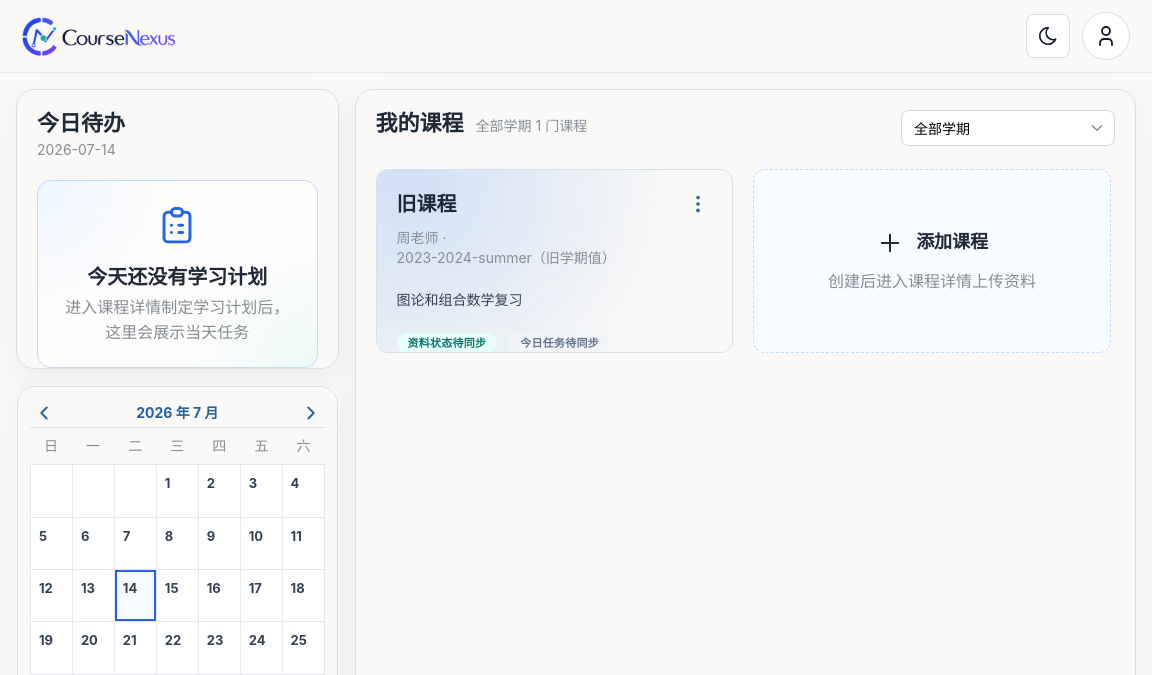
Test: HomePage › preserves an unchanged legacy term when editing another course field
Expected: the link "旧课程" is shown, [396, 192, 456, 216]
Click the button named "旧课程 更多操作": [698, 204] box [684, 190, 712, 218]
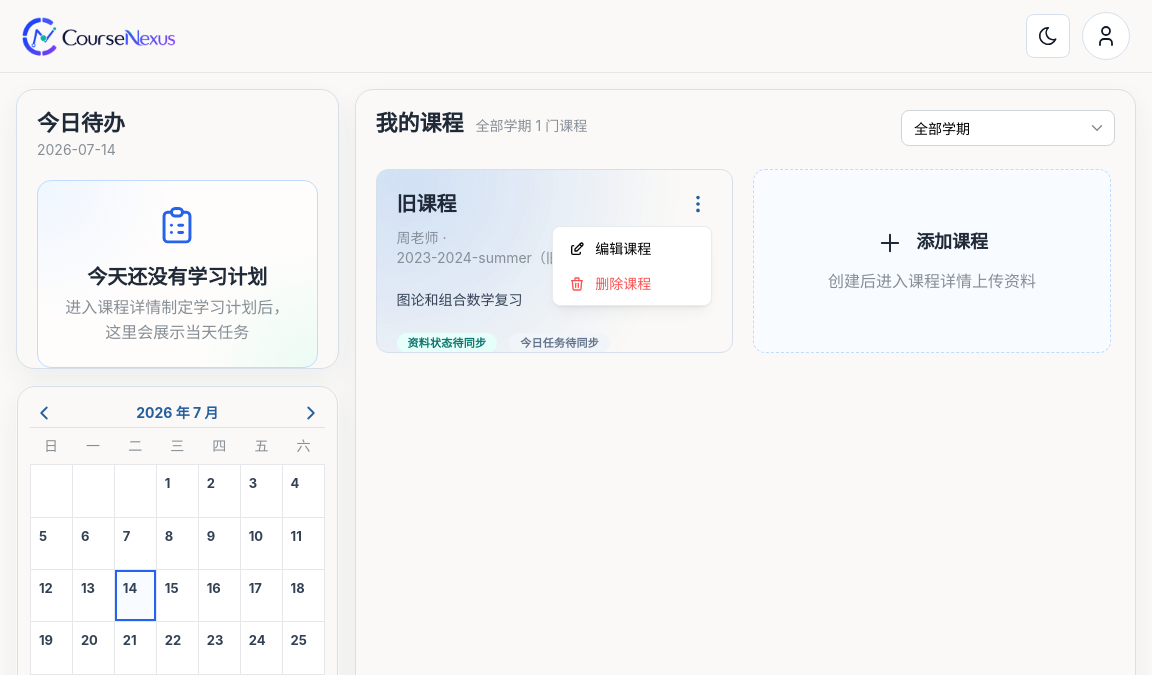
Click the menu item "编辑课程": [632, 248] box [557, 231, 707, 266]
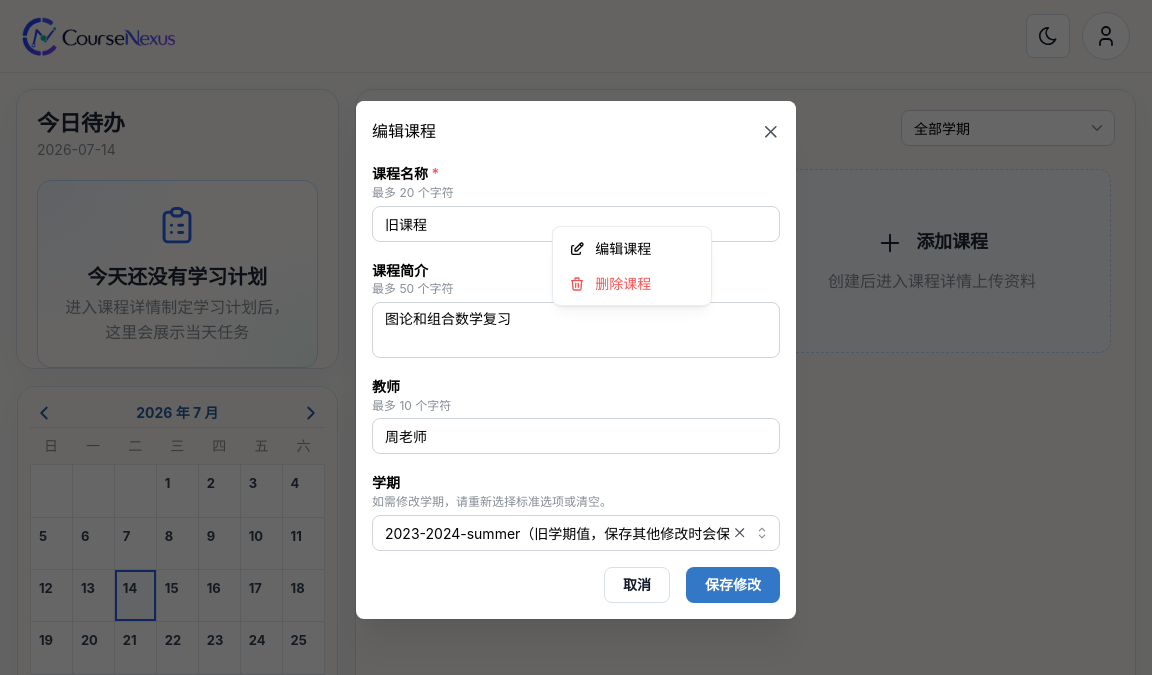
Replace the text in the field labelled "课程名称" with "旧课程（已编辑）": [576, 224] box [372, 206, 780, 242]
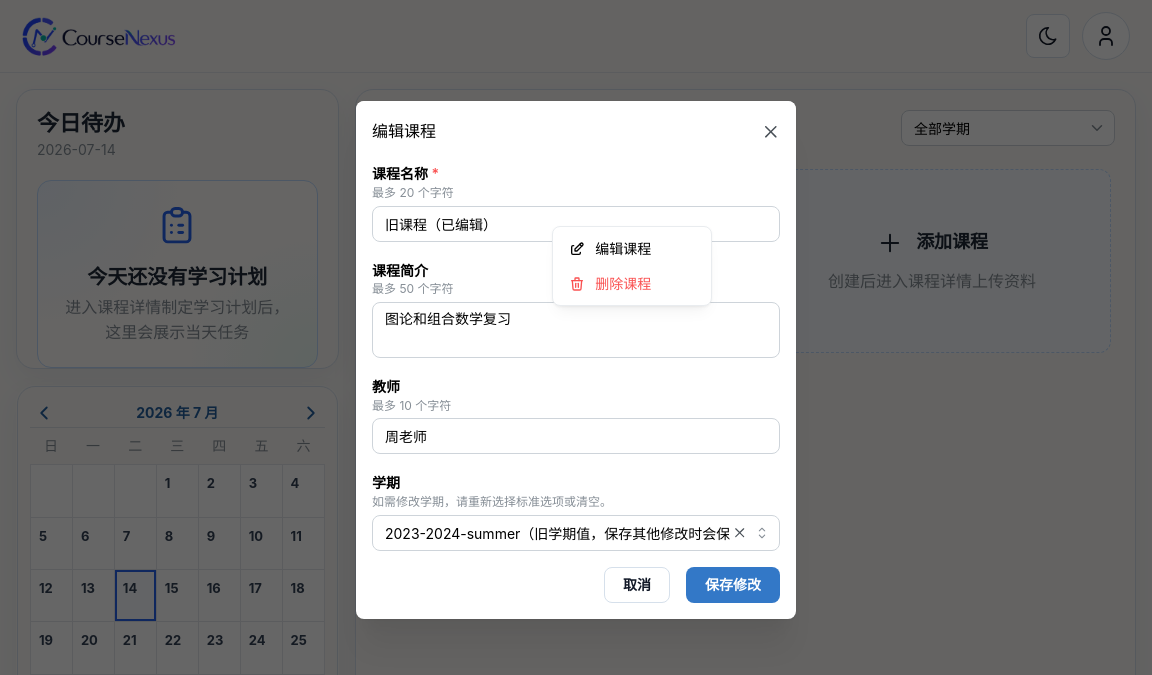
Click the button "保存修改": [733, 585] box [686, 567, 780, 603]
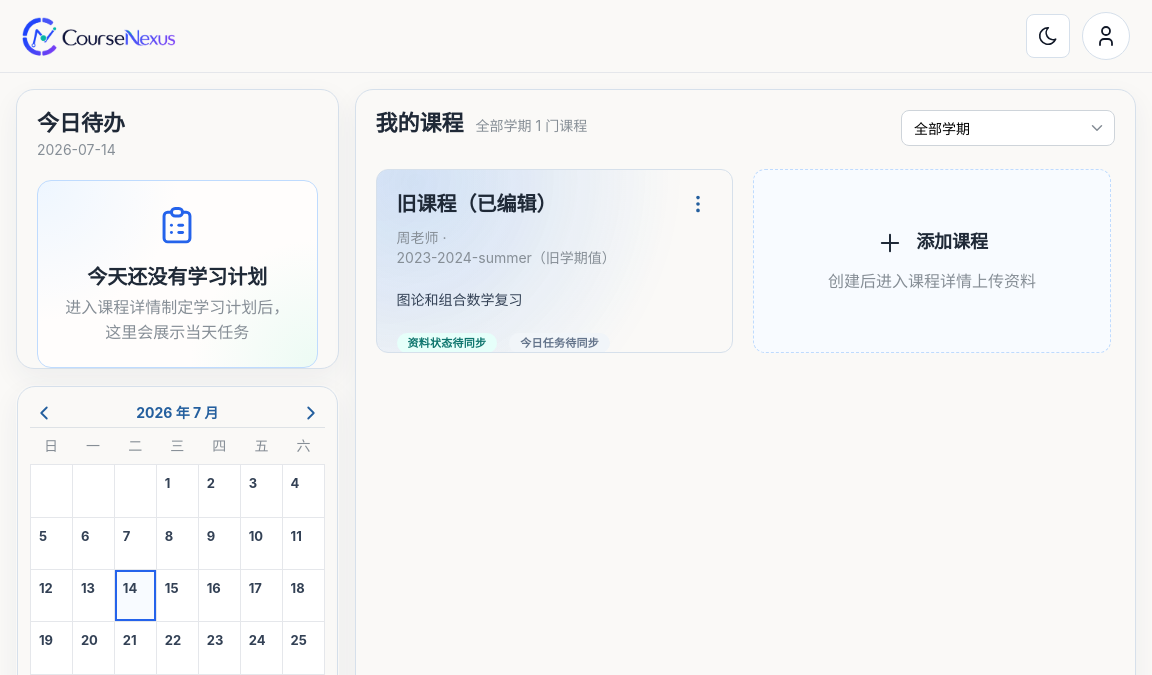
Now the link "旧课程（已编辑）" is shown, box [396, 192, 556, 216]
